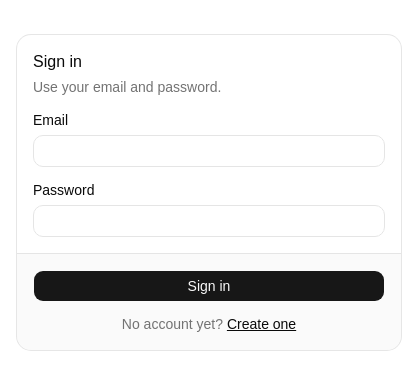
Test case: sign in › shows the server's message when the credentials are wrong
In the field labelled "Email": (209, 150) [33,134,385,166], type "ada@example.com"
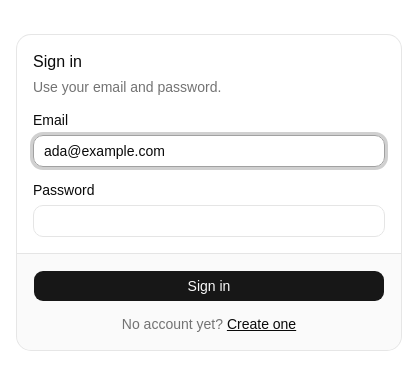
In the password field labelled "Password": (209, 220) [33,204,385,236], type "wrong password"
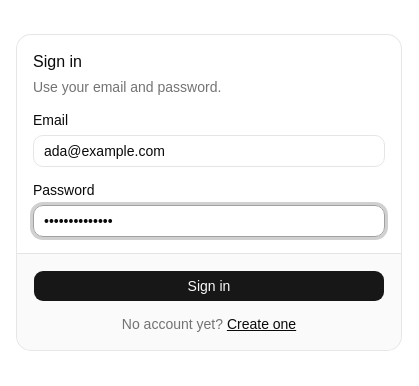
Click the button "Sign in": (209, 286) [33,270,385,302]
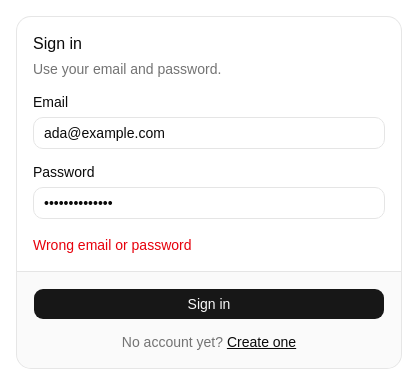
Expected: the message reads "Wrong email or password", [33,236,192,252]
